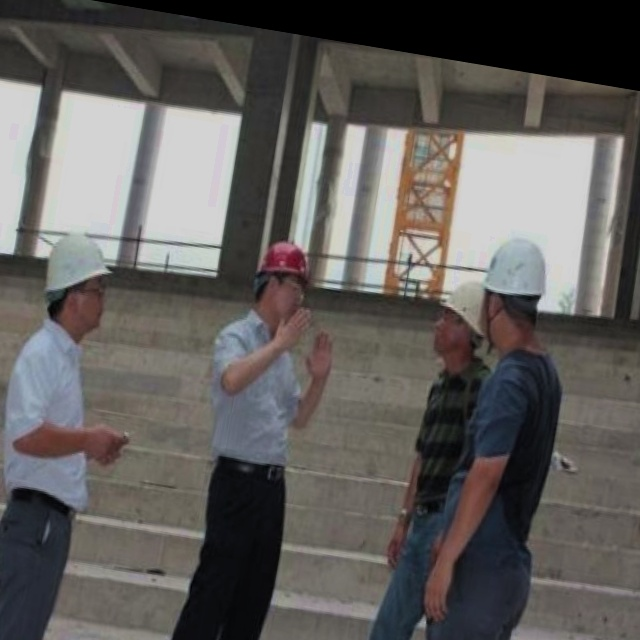Con_Casco: (37, 226, 115, 340), (249, 238, 317, 327)
